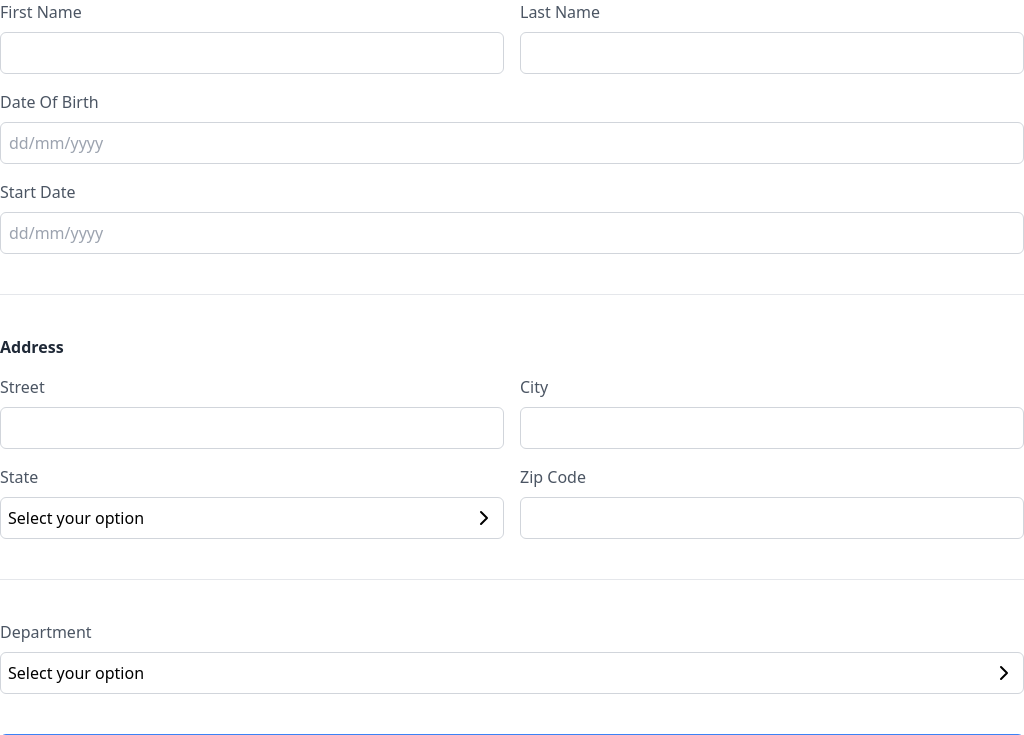
Test: CreateEmployeeForm Component › CreateEmployeeFormInputText component › Should display an error message if left empty
The image size is (1024, 735).
Click the field with test id "formTextInput" showing "First Name".
click(252, 53)  # box x1=0 y1=32 x2=504 y2=74
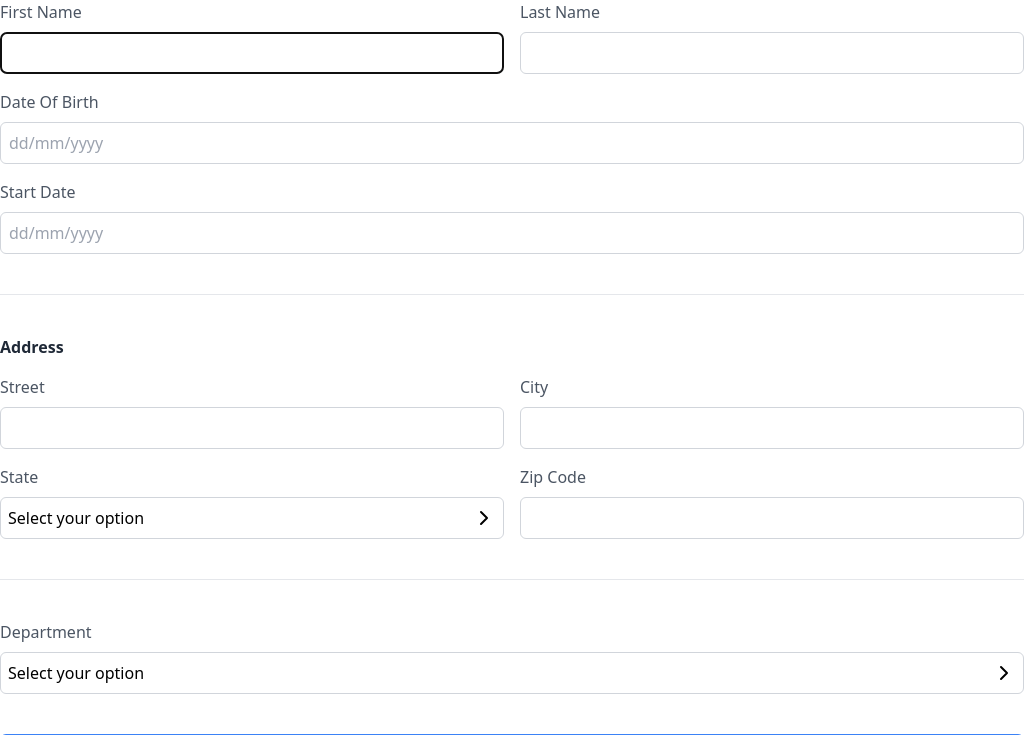
Press Tab
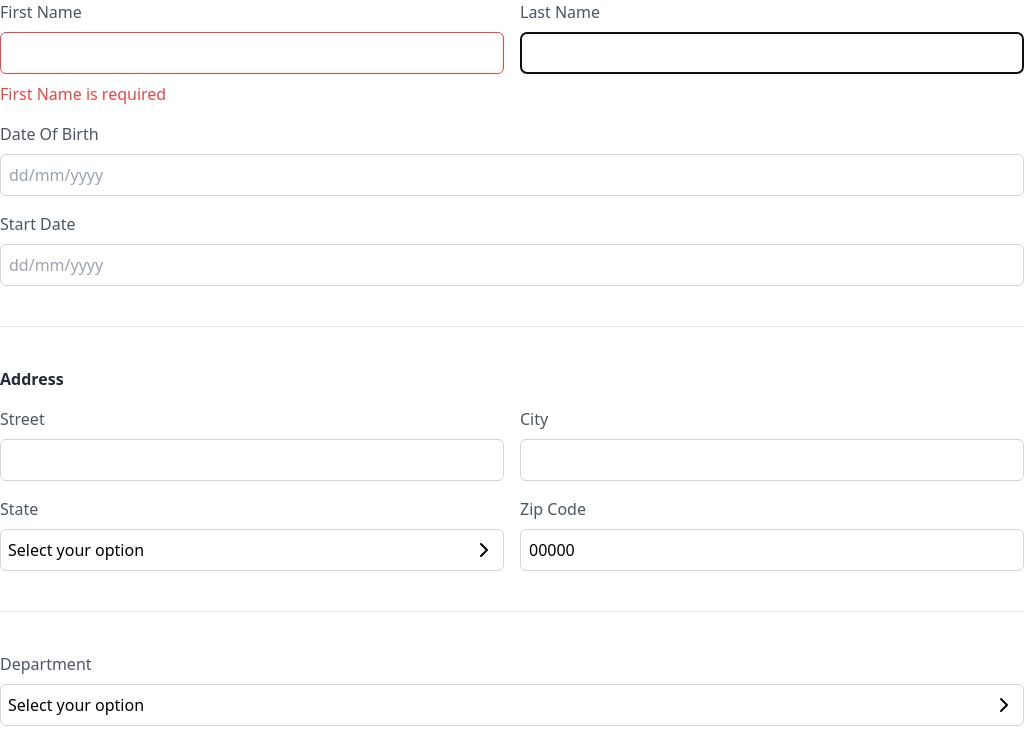
Result: the text "First Name is required" is shown at x1=0 y1=83 x2=166 y2=105
